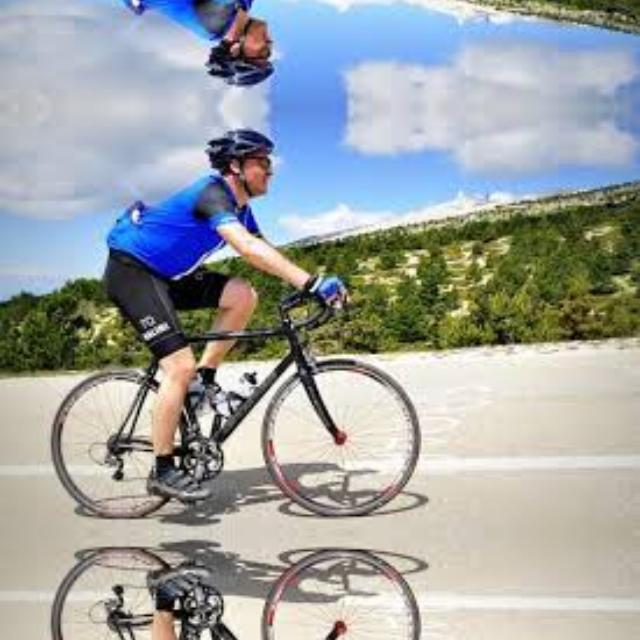obstacle: (56, 306, 478, 530), (56, 536, 478, 640)
